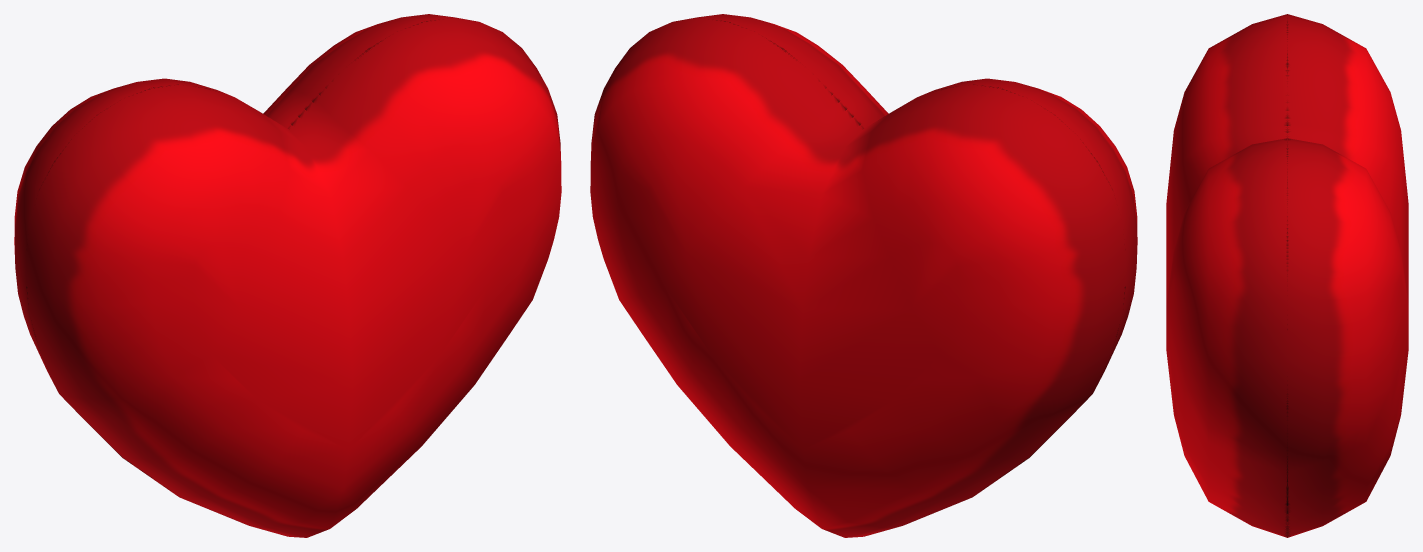
The model's file is HeartPickup.fbx.
3 views of the same model, side by side, from view 1: azimuth 30°, elevation 25°; view 2: azimuth 150°, elevation 25°; view 3: azimuth 270°, elevation 25° (orthographic). The views are drawn at different scales.
Visible parts, largest first — view 1: Heart; view 2: Heart; view 3: Heart.
Boxes of the visible parts, bbox=[...] form: Heart: bbox=[14, 14, 561, 537]; Heart: bbox=[590, 14, 1137, 537]; Heart: bbox=[1166, 14, 1408, 537].
Bounding box in the file's own units: 6.98 × 6.14 × 3.
Materials: 1 (1 with a texture image).
